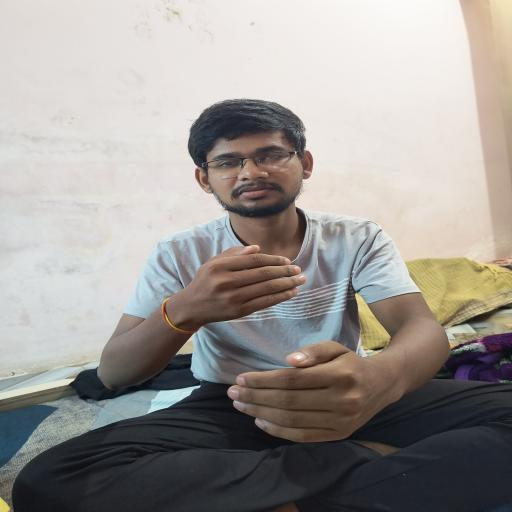Good: (138, 241, 420, 452)
